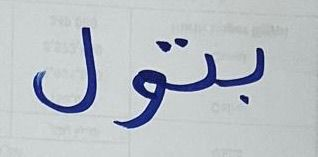character: (24, 22, 105, 117), (152, 28, 224, 102), (109, 69, 165, 130), (226, 38, 270, 109)
